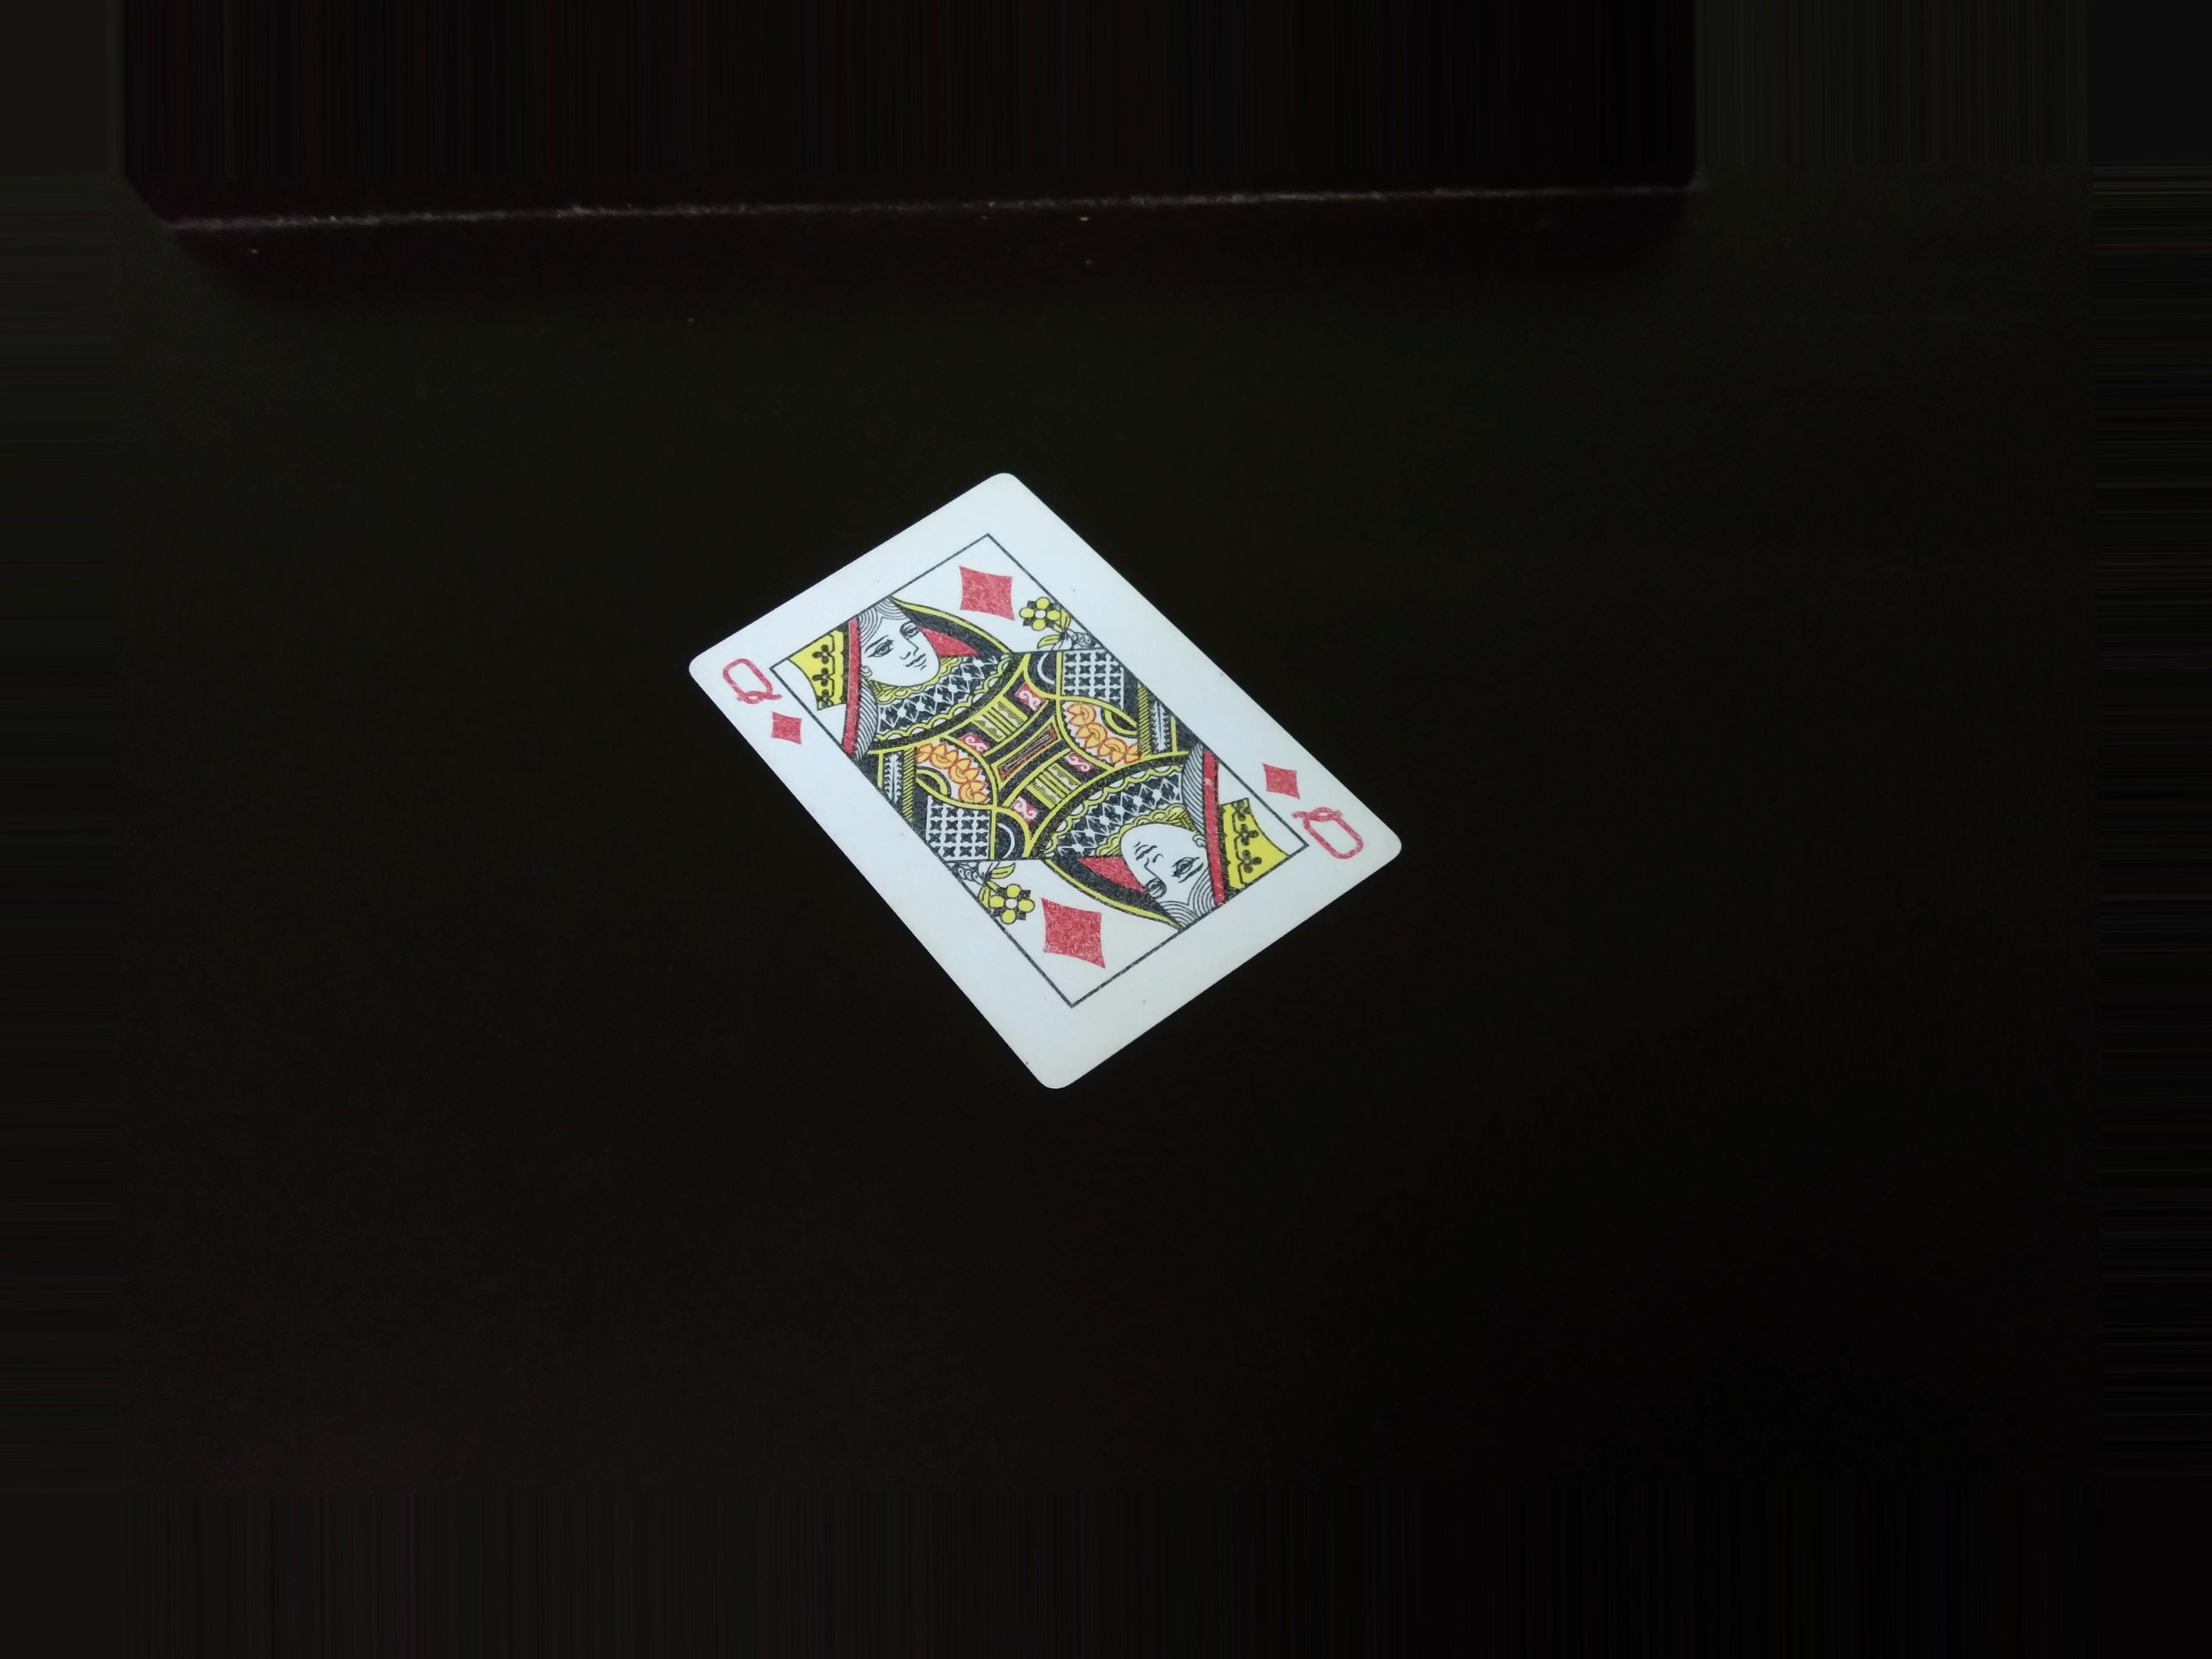QD: (712, 647, 812, 753)
